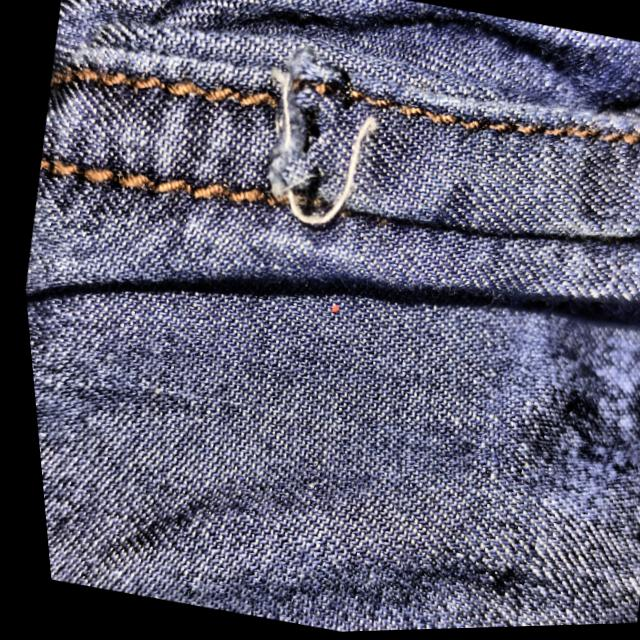Stitch: (215, 0, 422, 291)
